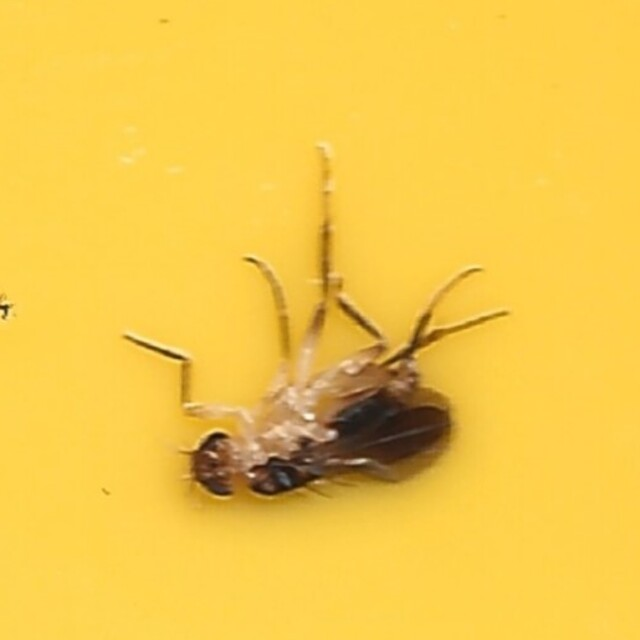Brachycera: (124, 138, 516, 502)
